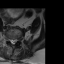CCS_normal: (12, 37, 14, 46)
LFS_stenosis: (16, 36, 18, 42)
LLS_normal: (14, 37, 16, 45)
RFS_normal: (8, 36, 10, 42)
RLS_normal: (10, 36, 12, 45)
